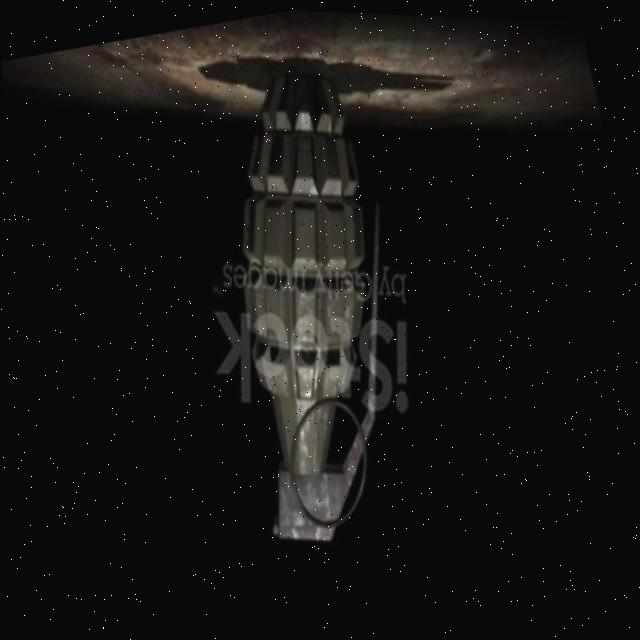grenade: (132, 29, 485, 579)
